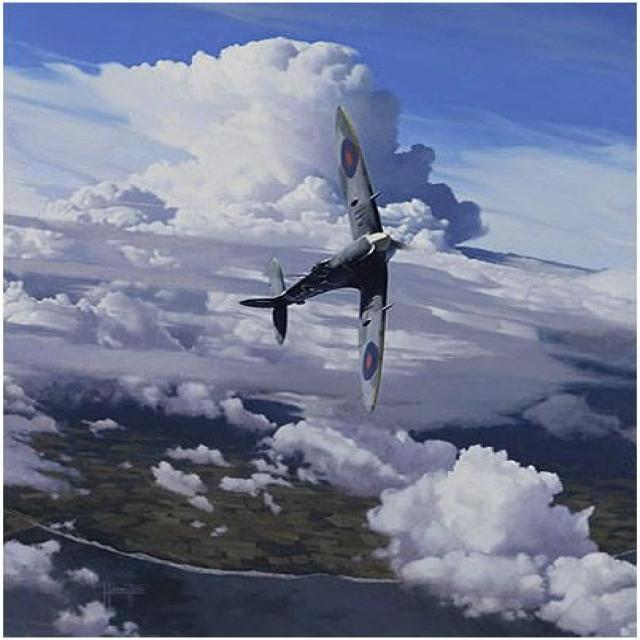iha: (240, 102, 395, 416)
